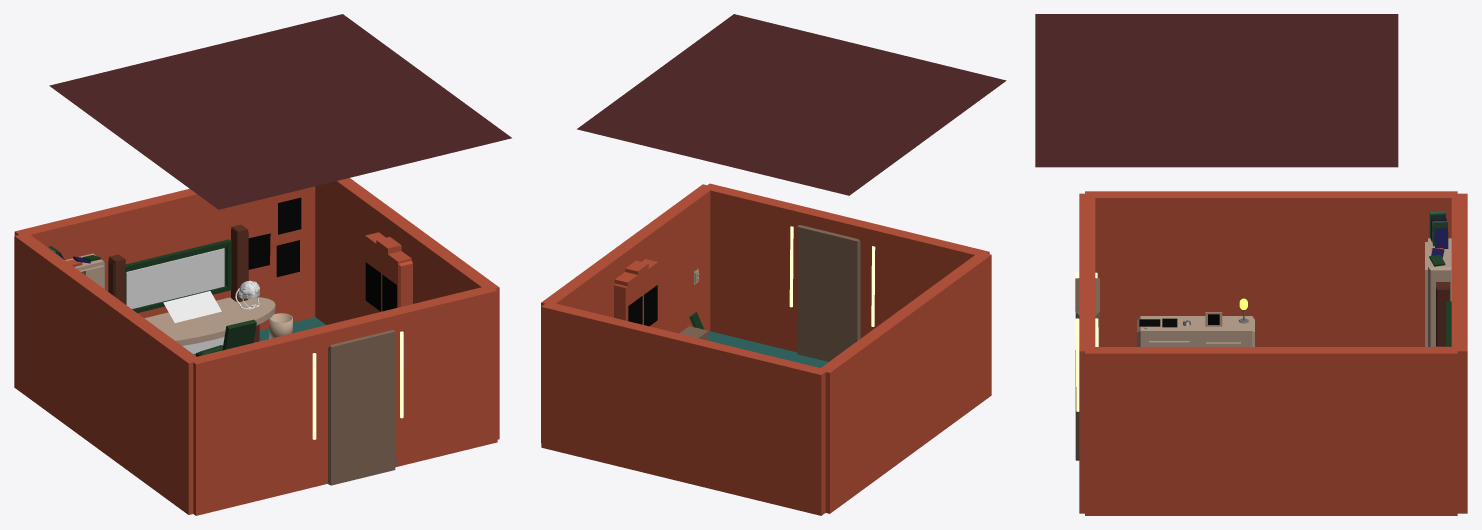
The model's file is bureau.fbx.
3 renders of one model, left to right at view 1: azimuth 30°, elevation 25°; view 2: azimuth 150°, elevation 25°; view 3: azimuth 270°, elevation 25°, orthographic. The views are drawn at different scales.
Parts seen in each view (by area): view 1: SOL.001, Cube.003, Cube, Cube.002, Cube.001, PORTE, ecran.009, table bureau, Mur sortant, cadre ecran, Cube.007, DISPLAY (+6 smaller); view 2: Cube.002, SOL.001, Cube, Cube.003, Cube.001, PORTE, Mur sortant, SOL; view 3: Cube.001, SOL.001, Cube, Cube.002, Cube.003, Commode, Armoire, PORTE, Cube.006.
Boxes of the visible parts, left/top/right/bottom form: SOL.001: left=49, top=14, right=511, bottom=209; Cube.003: left=193, top=287, right=497, bottom=515; Cube: left=14, top=235, right=201, bottom=514; Cube.002: left=14, top=186, right=315, bottom=330; Cube.001: left=315, top=178, right=499, bottom=439; PORTE: left=328, top=330, right=395, bottom=485; ecran.009: left=126, top=248, right=224, bottom=308; table bureau: left=144, top=297, right=275, bottom=345; Mur sortant: left=365, top=232, right=412, bottom=315; cadre ecran: left=125, top=239, right=231, bottom=312; Cube.007: left=231, top=224, right=248, bottom=301; DISPLAY: left=163, top=291, right=221, bottom=322; Cube.002: left=541, top=301, right=827, bottom=515; SOL.001: left=577, top=14, right=1006, bottom=195; Cube: left=821, top=251, right=991, bottom=513; Cube.003: left=707, top=183, right=989, bottom=352; Cube.001: left=541, top=184, right=714, bottom=442; PORTE: left=797, top=225, right=860, bottom=361; Mur sortant: left=614, top=259, right=658, bottom=328; SOL: left=708, top=331, right=828, bottom=367; Cube.001: left=1085, top=347, right=1457, bottom=515; SOL.001: left=1035, top=14, right=1398, bottom=167; Cube: left=1085, top=191, right=1457, bottom=346; Cube.002: left=1451, top=193, right=1467, bottom=513; Cube.003: left=1079, top=193, right=1095, bottom=513; Commode: left=1137, top=316, right=1254, bottom=346; Armoire: left=1425, top=238, right=1451, bottom=346; PORTE: left=1075, top=278, right=1099, bottom=460; Cube.006: left=1436, top=282, right=1450, bottom=345.
Size of the model in its own units: 1267 by 1258 by 1425.
